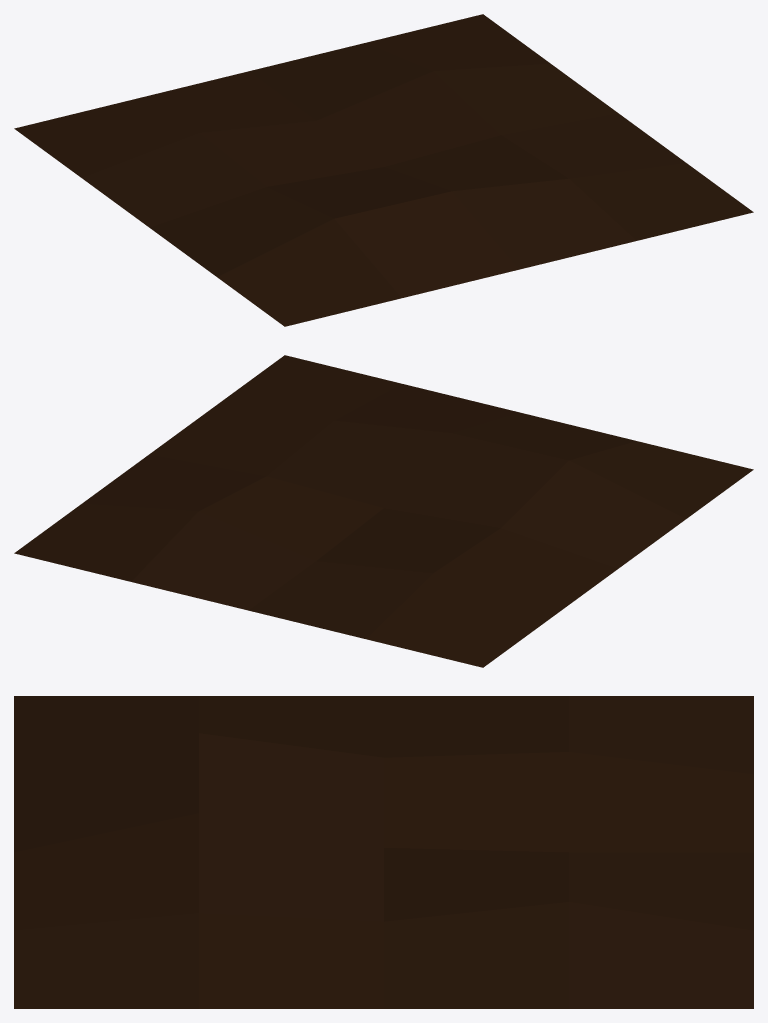
The model's file is BurnedForestGround.fbx.
3 views of the same model, one above another, from view 1: azimuth 30°, elevation 25°; view 2: azimuth 150°, elevation 25°; view 3: azimuth 270°, elevation 25° (orthographic). The views are drawn at different scales.
Parts seen in each view (by area): view 1: BurnedForestGround; view 2: BurnedForestGround; view 3: BurnedForestGround.
Boxes of the visible parts, bbox=[...] form: BurnedForestGround: bbox=[14, 14, 753, 326]; BurnedForestGround: bbox=[14, 355, 753, 667]; BurnedForestGround: bbox=[14, 696, 753, 1008].
Bounding box in the file's own units: 1000 × 61.16 × 1000.
